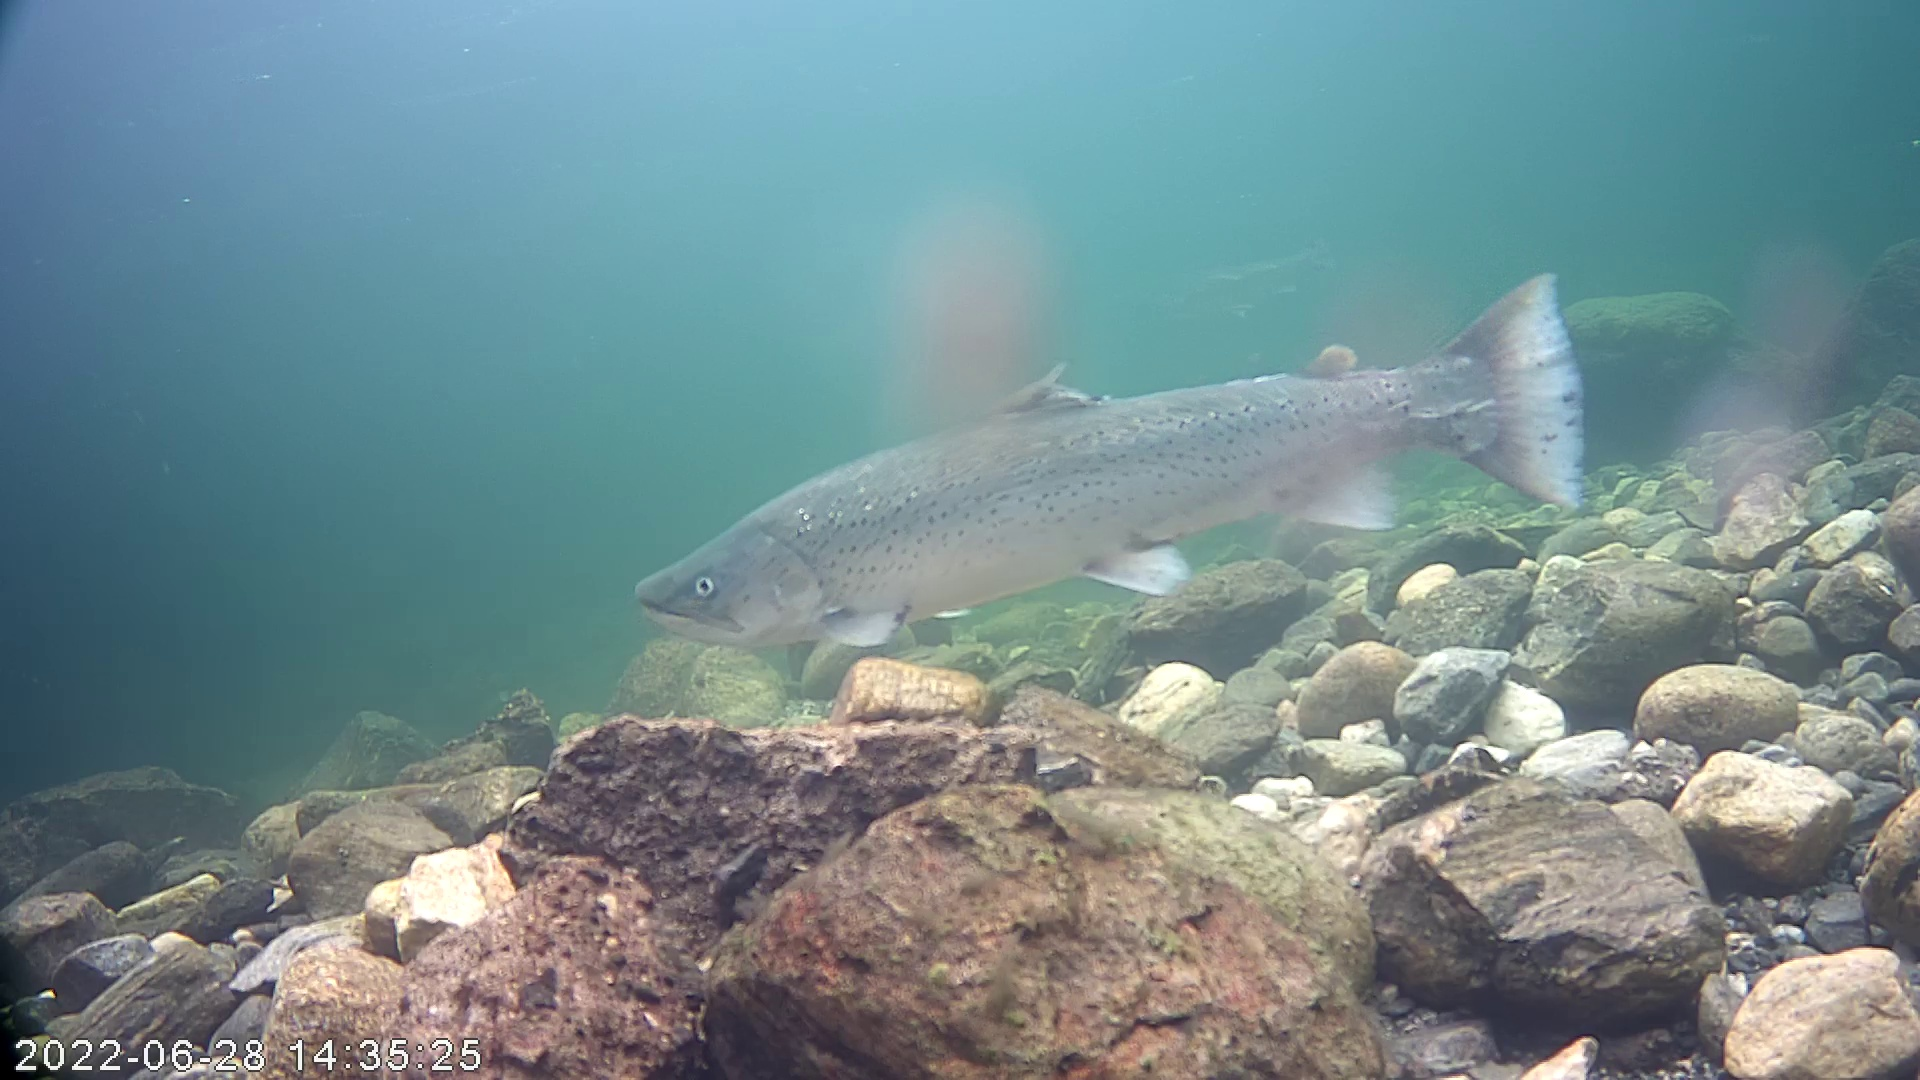salmon: (626, 231, 1618, 674)
